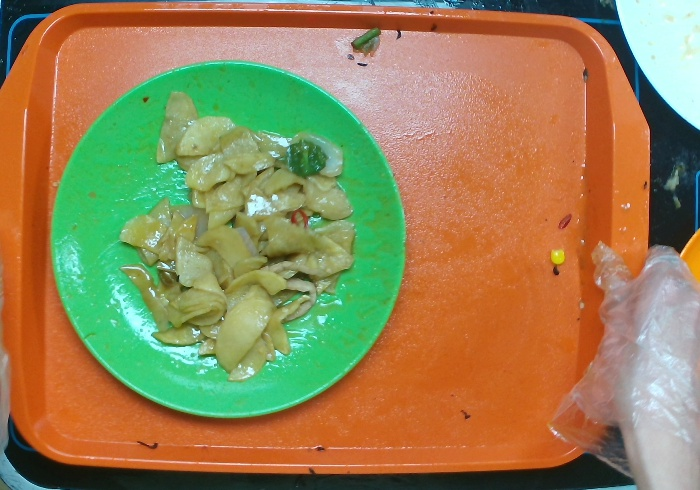HZYJPL-Lv_Se_Yuan_Pan: (42, 54, 413, 427)
